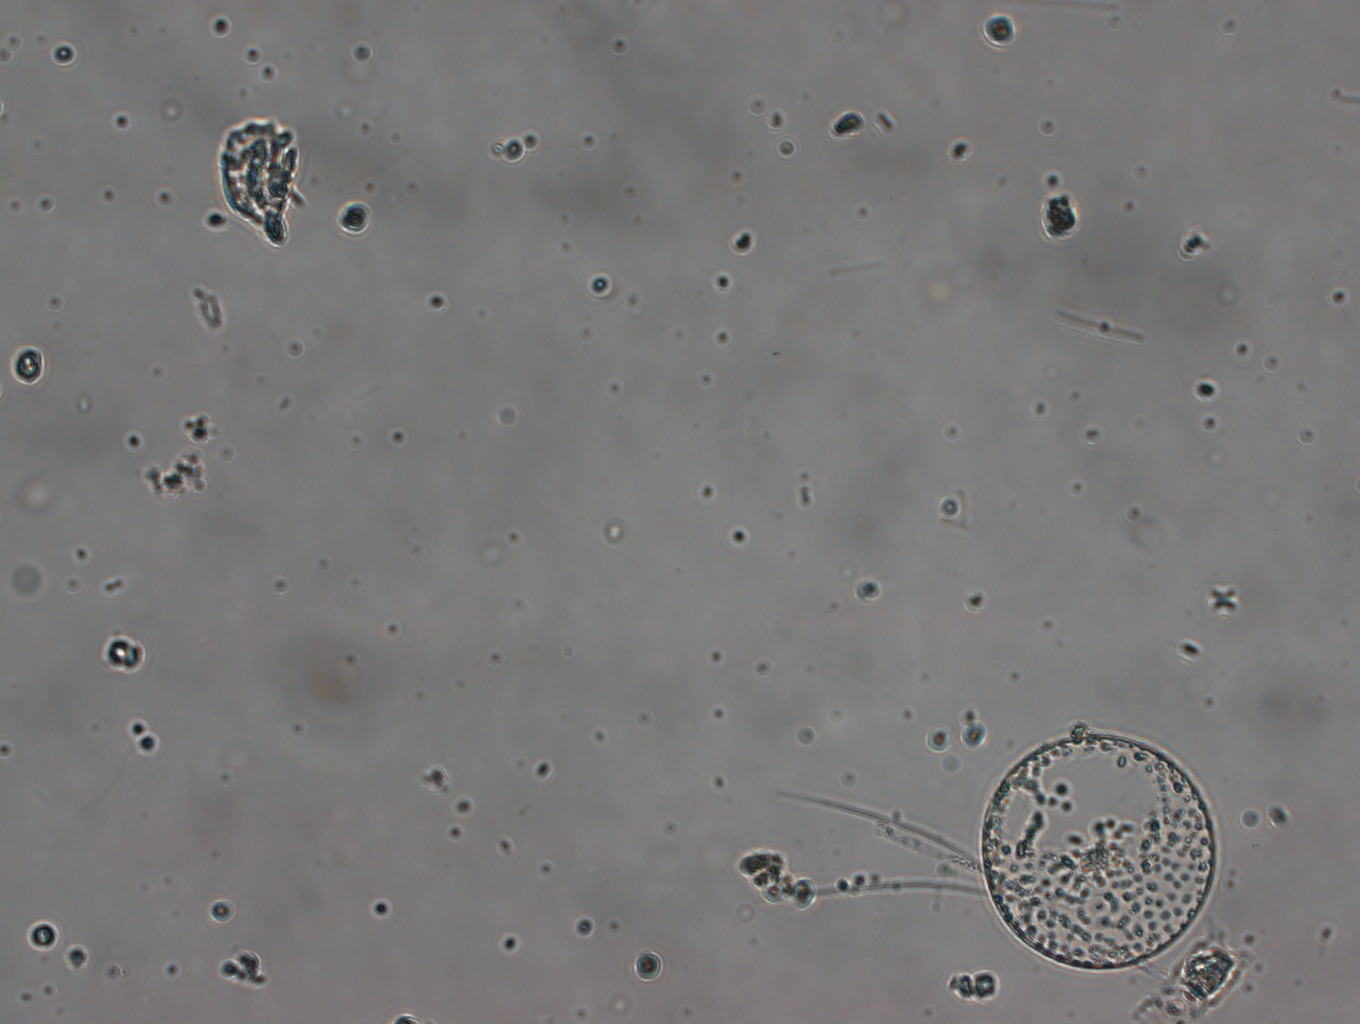coscinodiscus: (979, 734, 1216, 975)
